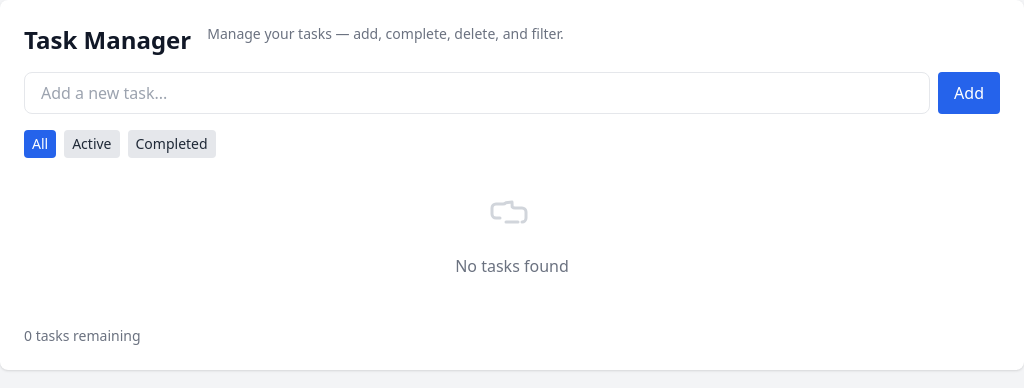
Test: TaskManager component › toggles and deletes a task
The width and height of the screenshot is (1024, 388).
Type "Temp task" into the field named "task text".
click(477, 93); type("Temp task")  # box 24,72 -> 930,114
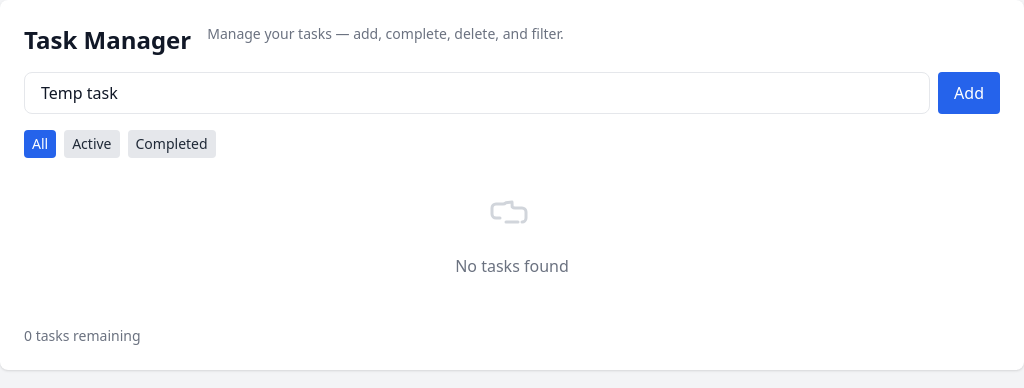
Click the button "Add".
click(969, 93)  # box 938,72 -> 1000,114
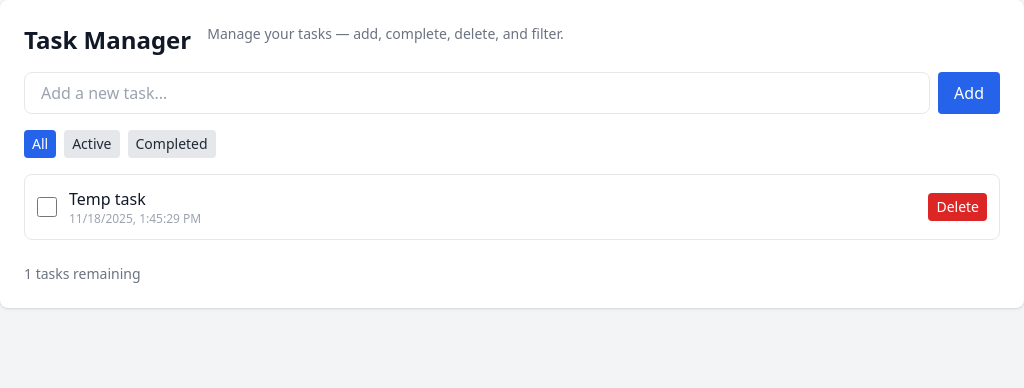
Click the checkbox.
click(47, 207)  # box 37,197 -> 57,217
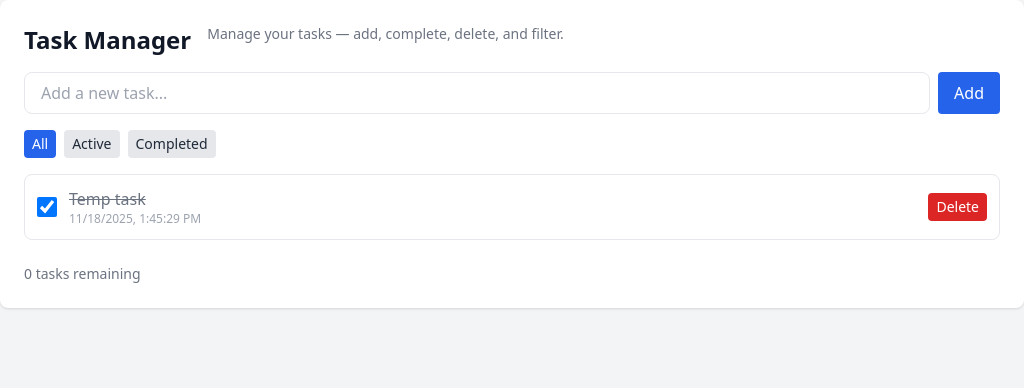
Expected: the checkbox is checked, 37,197 -> 57,217
Click the button with aria-label "delete temp task".
click(958, 207)  # box 928,193 -> 987,221
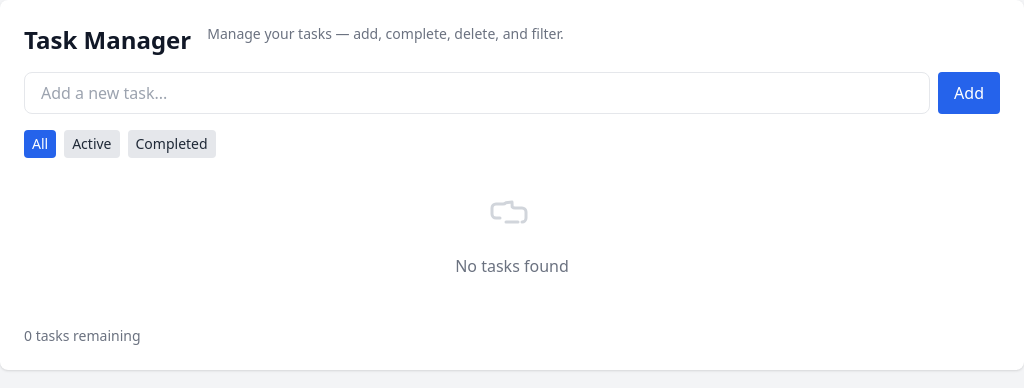
Expected: the text "Temp task" is gone
